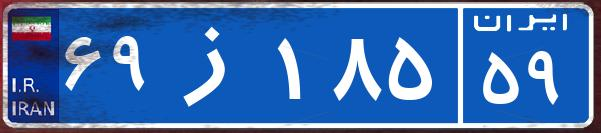1: (273, 28, 330, 110)
5: (385, 28, 445, 110), (475, 38, 525, 113)
6: (57, 26, 110, 107)
8: (330, 28, 385, 110)
9: (110, 28, 158, 105), (525, 38, 570, 115)
ز: (158, 15, 273, 115)
